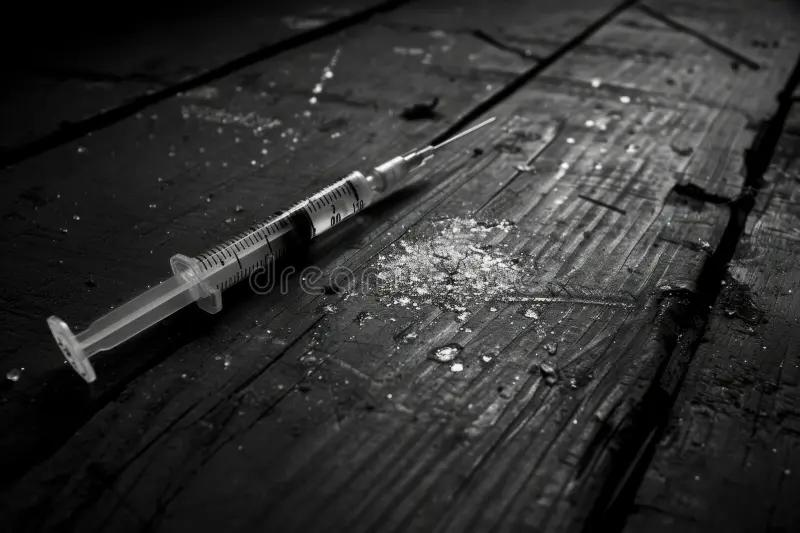Syringe: (47, 118, 494, 381)
